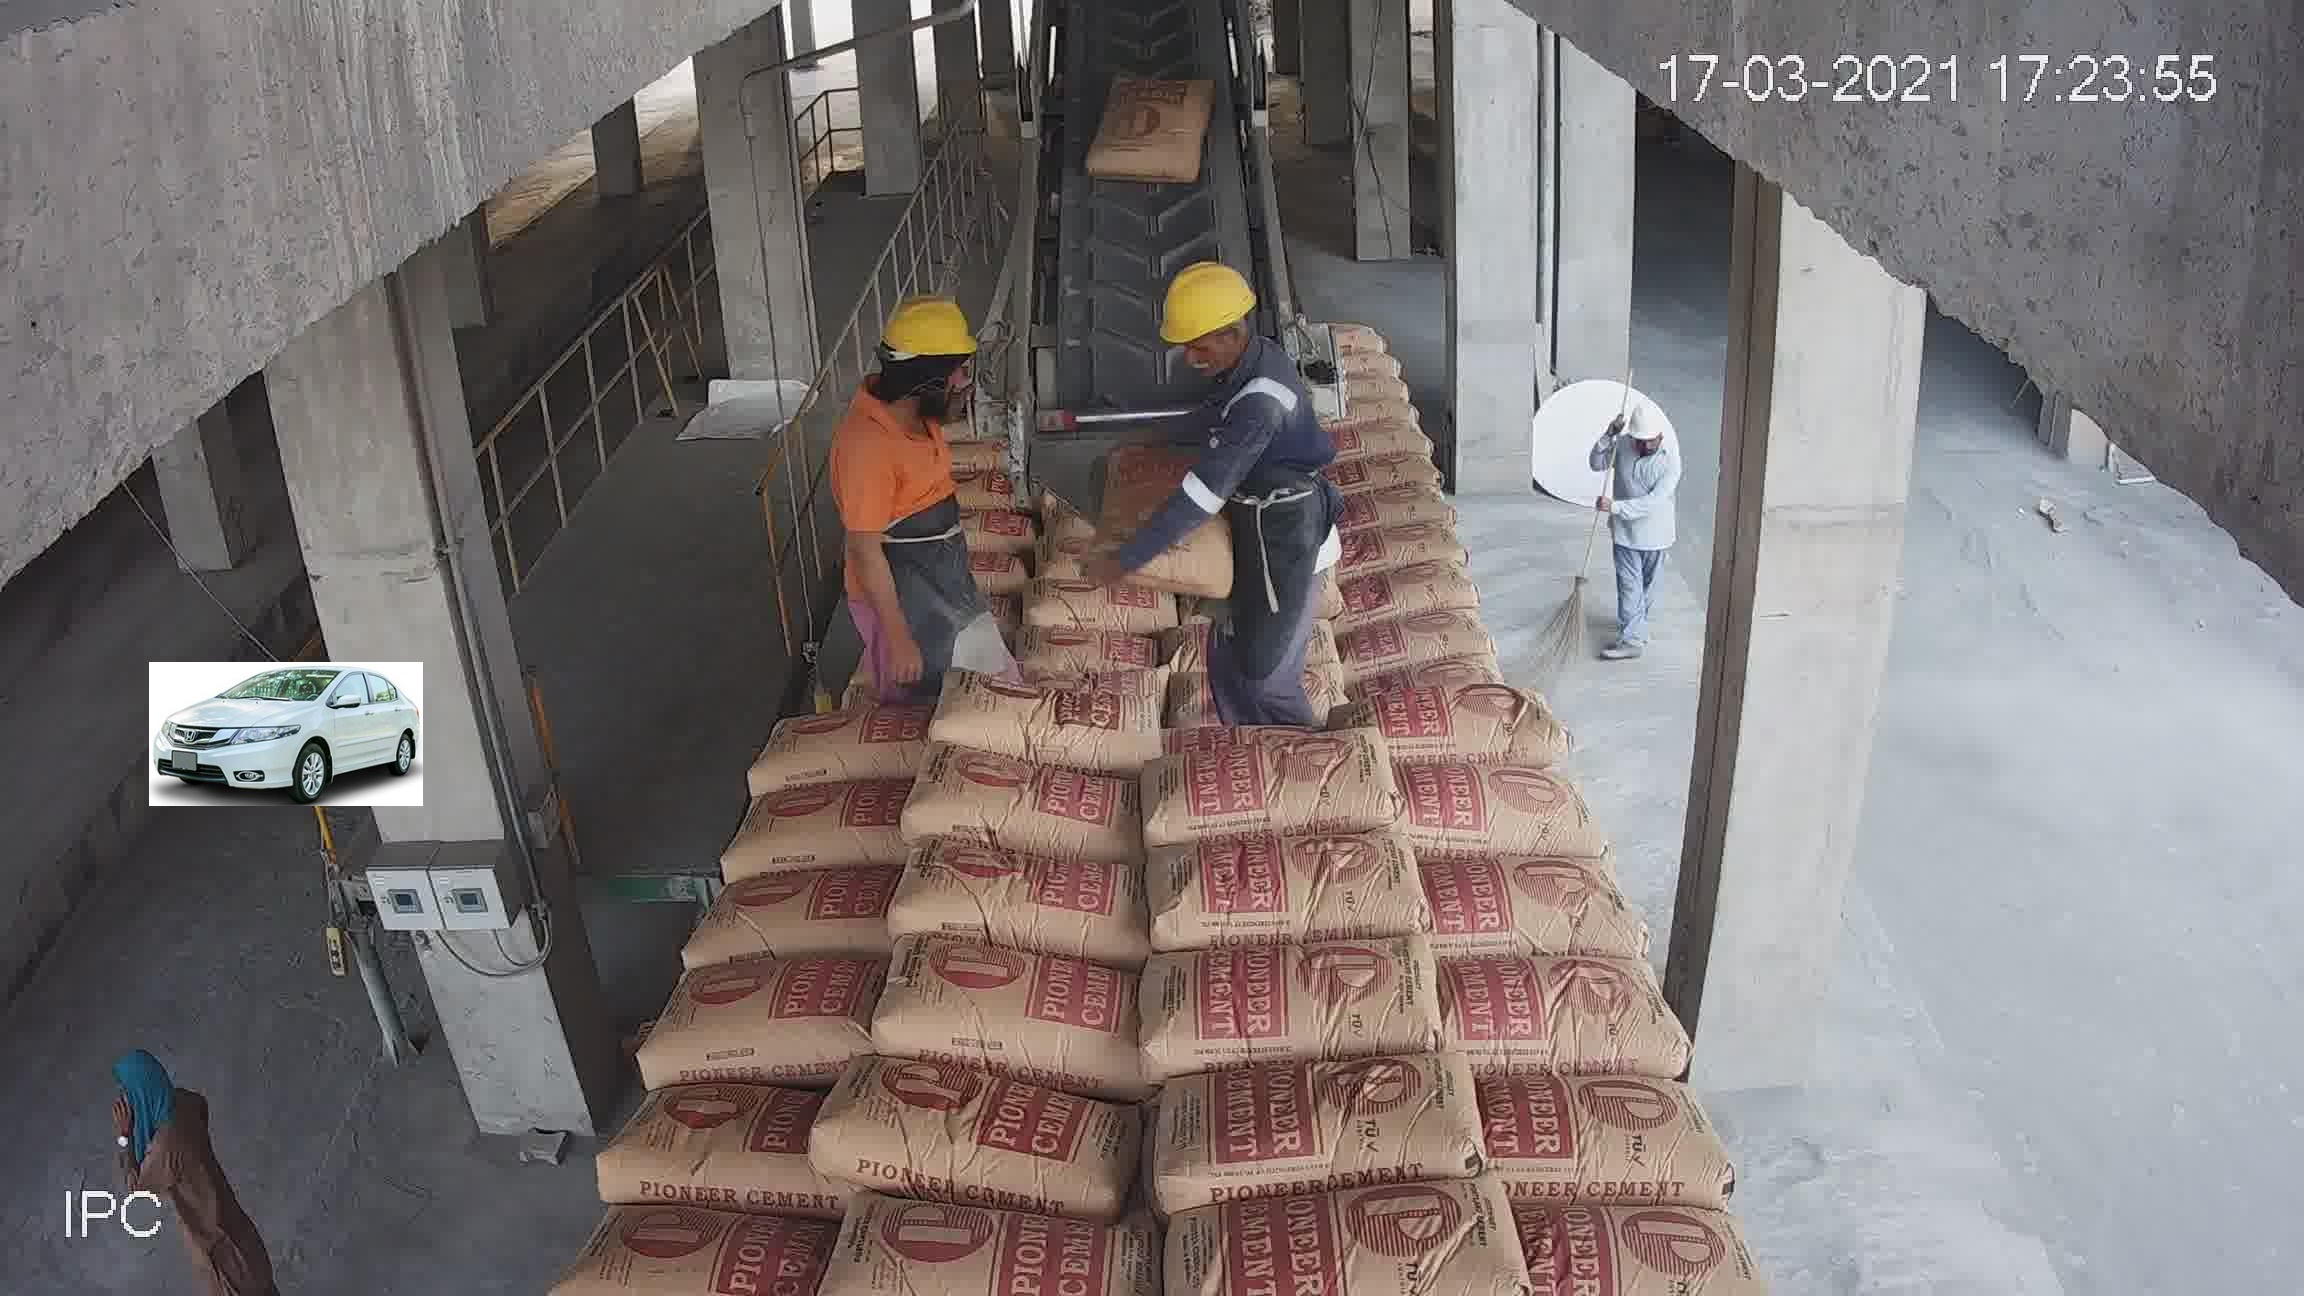bag: (1105, 138, 1211, 234)
bag_h: (1150, 1041, 1491, 1211), (1133, 929, 1448, 1071), (1146, 1185, 1525, 1294), (840, 1054, 1105, 1203), (623, 954, 862, 1116), (1124, 824, 1400, 959), (1432, 945, 1674, 1093), (1489, 1071, 1714, 1215), (900, 842, 1158, 961), (581, 1082, 798, 1223), (1529, 1179, 1782, 1296), (869, 961, 1138, 1068), (1415, 866, 1654, 978), (711, 767, 916, 896), (574, 1201, 843, 1296), (877, 766, 1154, 858), (839, 1204, 1127, 1291), (1393, 755, 1608, 867), (687, 853, 889, 972), (1176, 726, 1404, 828), (1146, 657, 1394, 742), (1353, 688, 1570, 777), (733, 709, 929, 798), (1169, 574, 1378, 657), (938, 685, 1149, 764), (798, 628, 948, 731), (1173, 521, 1358, 598), (957, 498, 1147, 570), (959, 551, 1138, 625), (1374, 620, 1544, 695), (812, 581, 976, 655), (972, 612, 1150, 680), (1169, 483, 1329, 552), (1358, 498, 1503, 574), (813, 524, 965, 592), (1331, 574, 1514, 628), (1059, 418, 1177, 467), (1071, 385, 1180, 434), (1097, 460, 1188, 506)
belt: (1040, 14, 1253, 285)
